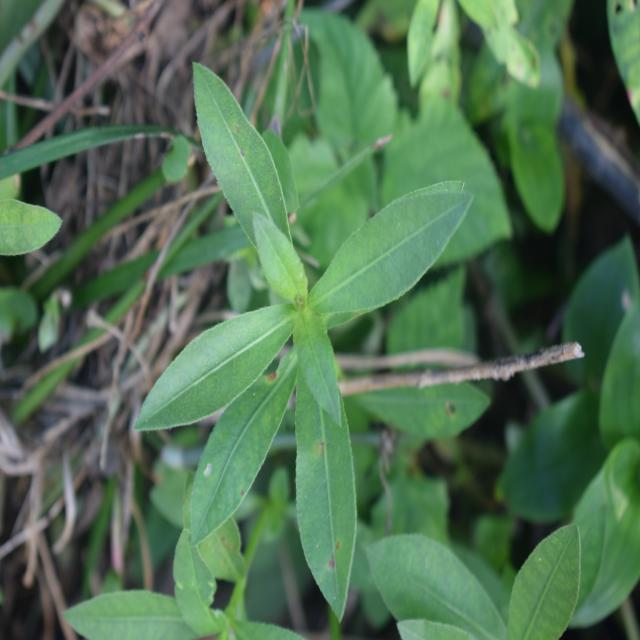Alligatorweed: (160, 66, 448, 574)
